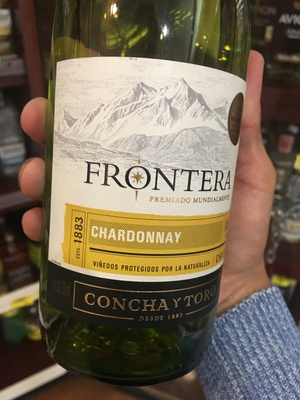frontera chardonnay: (48, 5, 245, 374)
